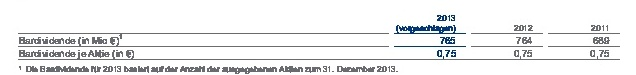table: (0, 0, 636, 75)
